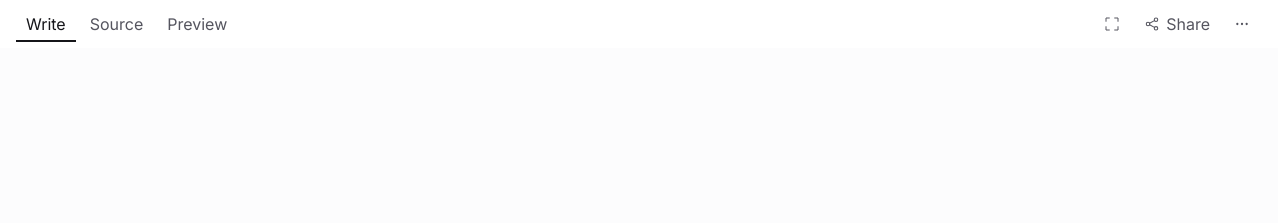
Scenario: closes the menu and restores focus before invoking an action
The width and height of the screenshot is (1278, 223).
Click the button named "Document actions".
click(1242, 24)  # box left=1224, top=6, right=1260, bottom=42
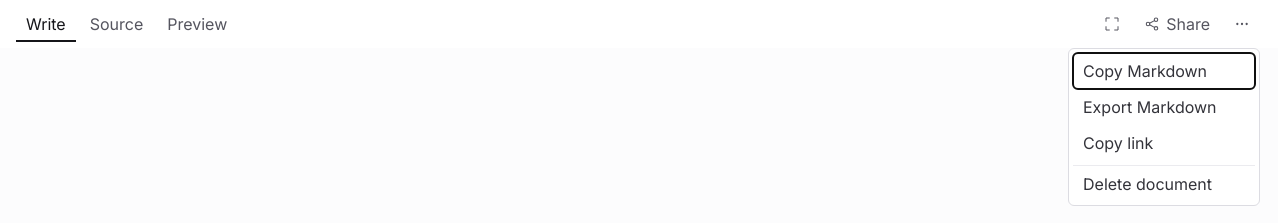
Click the menu item "Export Markdown".
click(1164, 107)  # box left=1073, top=89, right=1255, bottom=125
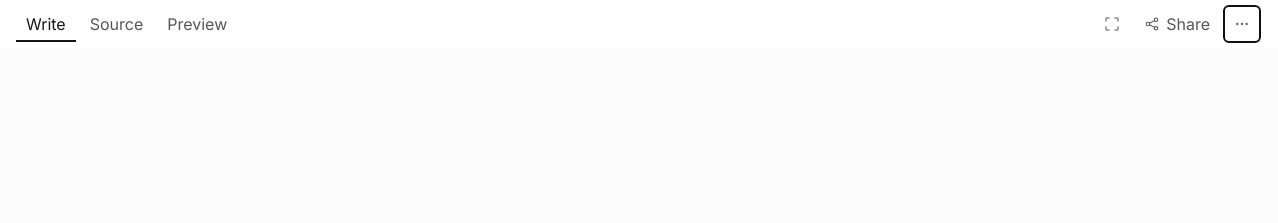
Now the menu is gone
